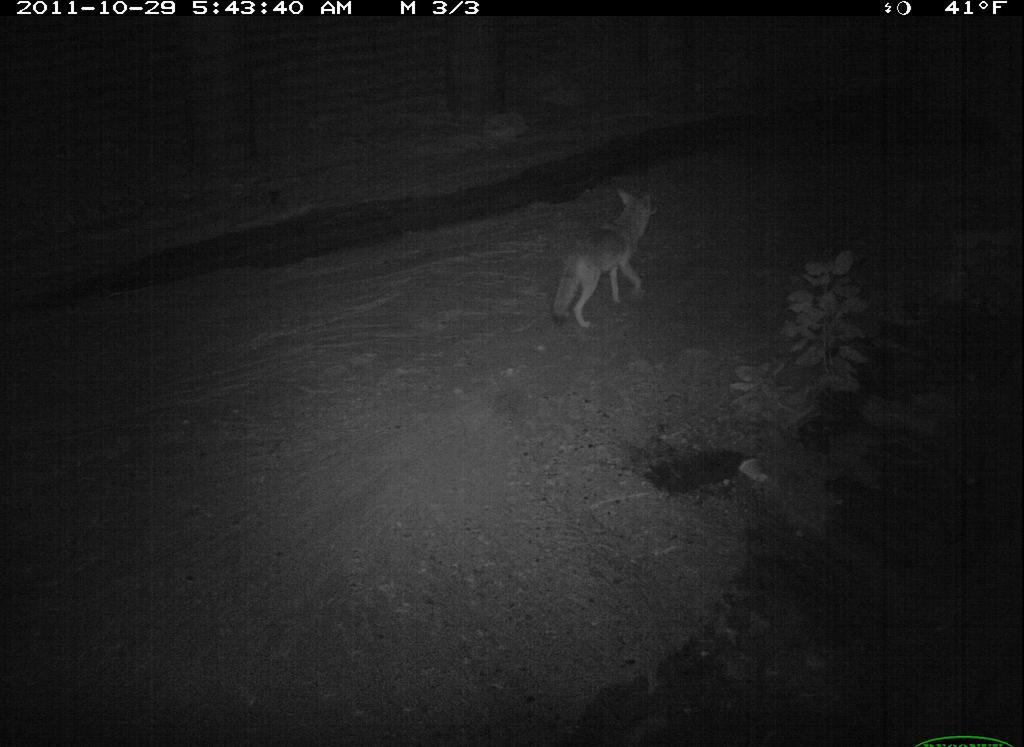coyote: (542, 173, 679, 332)
